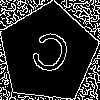C: (23, 28, 74, 86)
